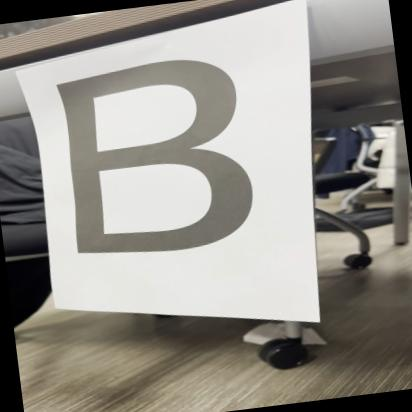seat: (37, 41, 314, 281)
